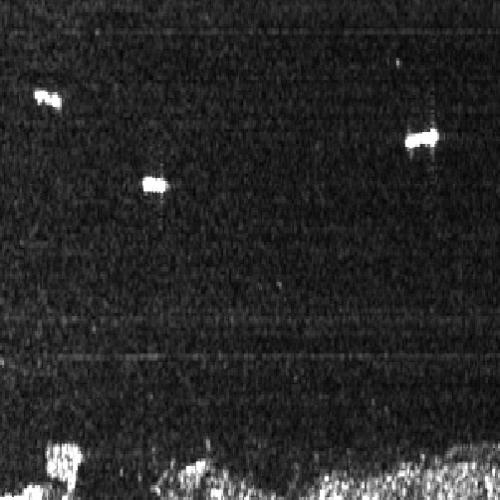ship: (403, 127, 440, 150), (33, 88, 62, 109), (142, 174, 169, 196)
